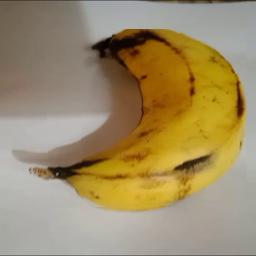Banana Semifresh: (27, 29, 247, 209)
